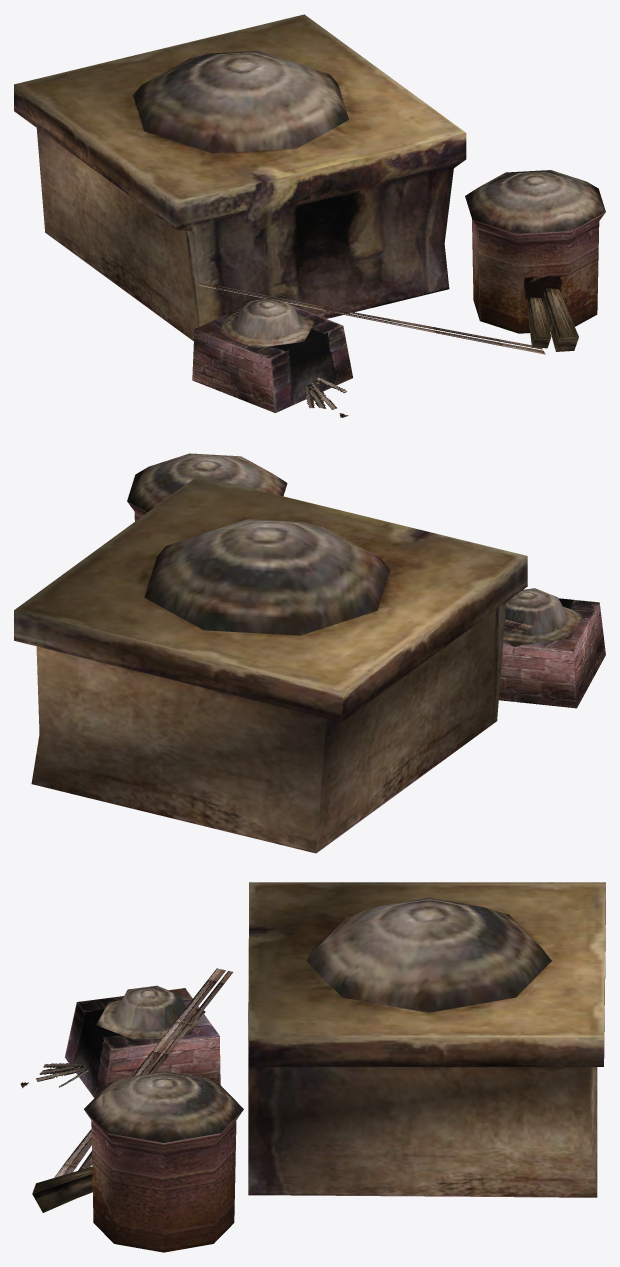
Rendered from cj_brazier_etc01.glb.
The picture shows the model from 3 angles, top to bottom: view 1: azimuth 30°, elevation 25°; view 2: azimuth 150°, elevation 25°; view 3: azimuth 270°, elevation 25°; orthographic projection. The views are drawn at different scales.
Visible parts, largest first — view 1: CJ_brazier_etc01, CJ_brazier_etcalpha; view 2: CJ_brazier_etc01; view 3: CJ_brazier_etc01, CJ_brazier_etcalpha.
Boxes of the visible parts, x1,y1,x2,y2 form: CJ_brazier_etc01: (14,14,605,412); CJ_brazier_etcalpha: (196,281,545,417); CJ_brazier_etc01: (14,453,605,853); CJ_brazier_etc01: (32,882,605,1252); CJ_brazier_etcalpha: (20,968,233,1177).
Size of the model in its own units: 3.39 by 1.6 by 3.98.
2 materials, 2 textured.
